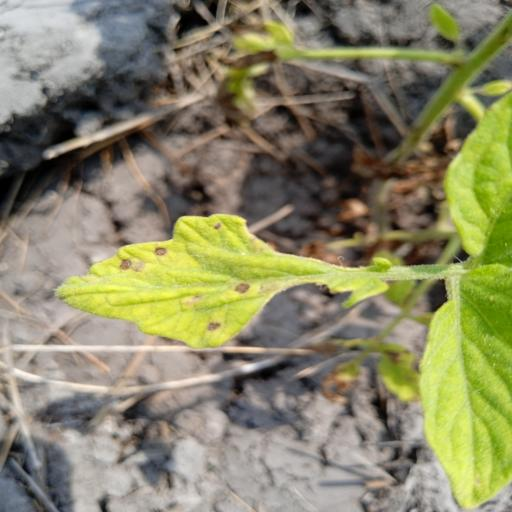Tomato_Brown_Spots: (50, 208, 376, 355)
